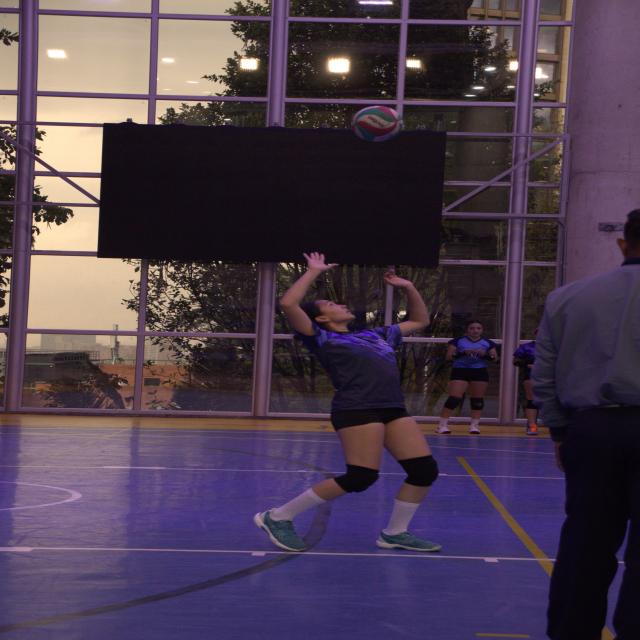volleyball: (351, 105, 405, 144)
